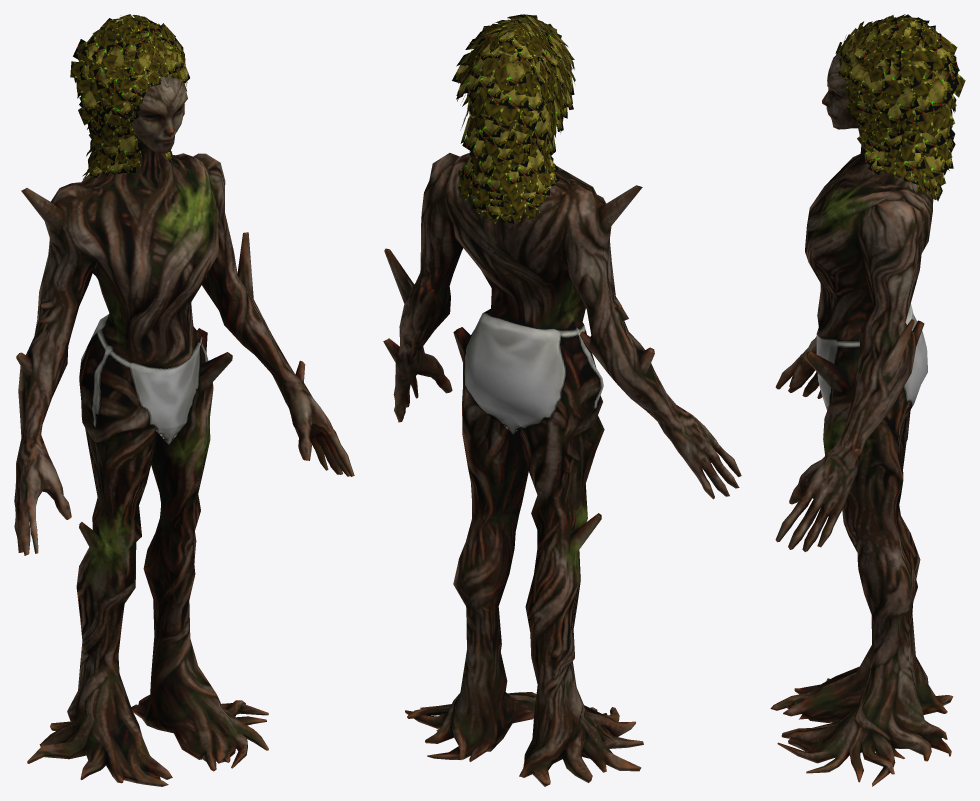
Rendered from 246-dryad.glb.
3 renders of one model, left to right at view 1: azimuth 30°, elevation 25°; view 2: azimuth 150°, elevation 25°; view 3: azimuth 270°, elevation 25°, orthographic. The views are drawn at different scales.
Size of the model in its own units: 1.88 by 3.95 by 0.9778.
1 material, 1 textured.
